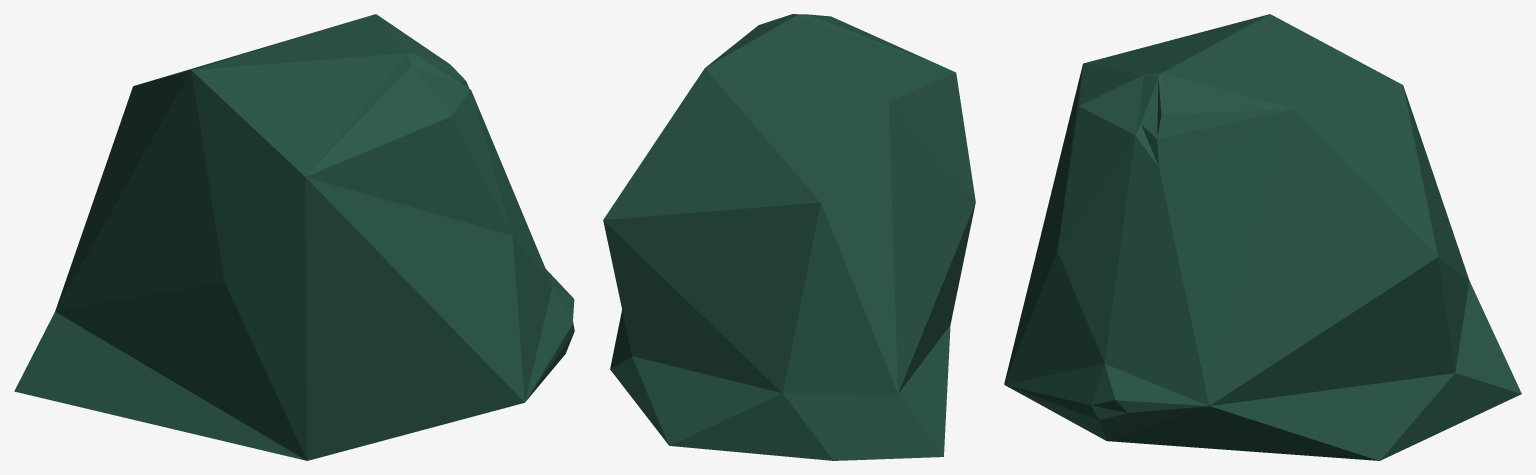
Rendered from Rock03.FBX.
3 views of the same model, side by side, from view 1: azimuth 30°, elevation 25°; view 2: azimuth 150°, elevation 25°; view 3: azimuth 270°, elevation 25° (orthographic). The views are drawn at different scales.
Parts seen in each view (by area): view 1: Capsule002; view 2: Capsule002; view 3: Capsule002.
Boxes of the visible parts, box(x1,y1,x2,y2) form: Capsule002: box(14, 14, 574, 460); Capsule002: box(603, 14, 975, 460); Capsule002: box(1004, 14, 1521, 460).
Size of the model in its own units: 90.34 by 69.66 by 94.69.
